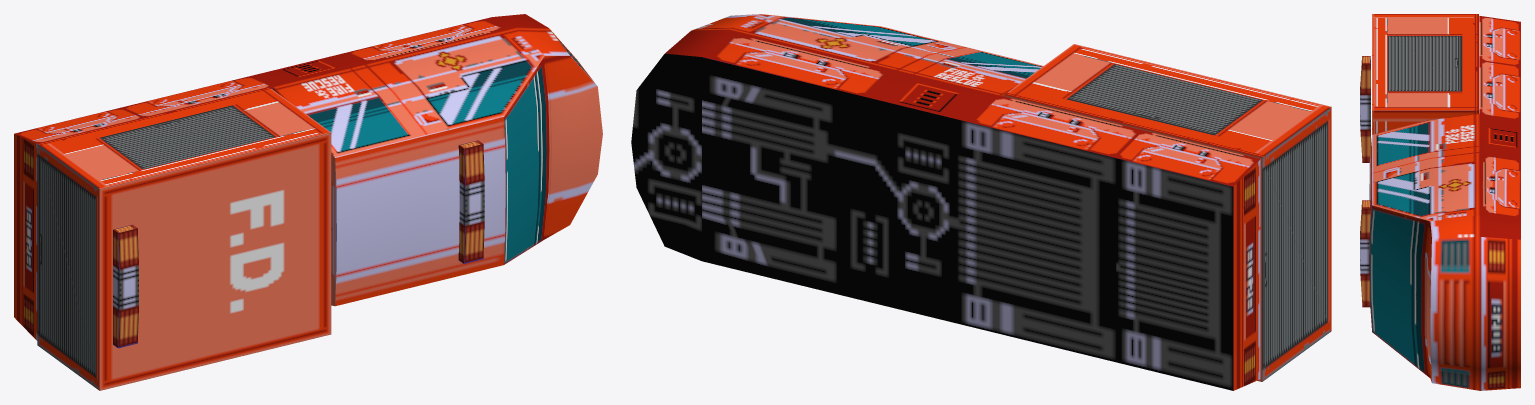
The model's file is firetruck.obj.
3 renders of one model, left to right at view 1: azimuth 30°, elevation 25°; view 2: azimuth 150°, elevation 25°; view 3: azimuth 270°, elevation 25°, orthographic. The views are drawn at different scales.
Parts seen in each view (by area): view 1: firetruck; view 2: firetruck; view 3: firetruck.
Part boxes in pixels (x1,y1,x2,y2): firetruck: (14,14,602,390); firetruck: (631,14,1331,390); firetruck: (1360,14,1520,390).
Size of the model in its own units: 89.68 by 31.7 by 26.77.
